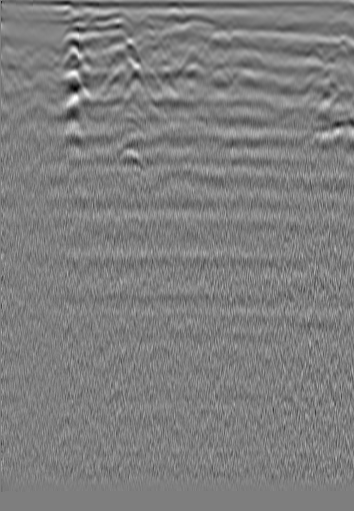가스: (109, 145, 148, 179)
상수: (304, 47, 324, 67)
오수: (33, 39, 53, 59)
우수: (162, 8, 187, 35)
